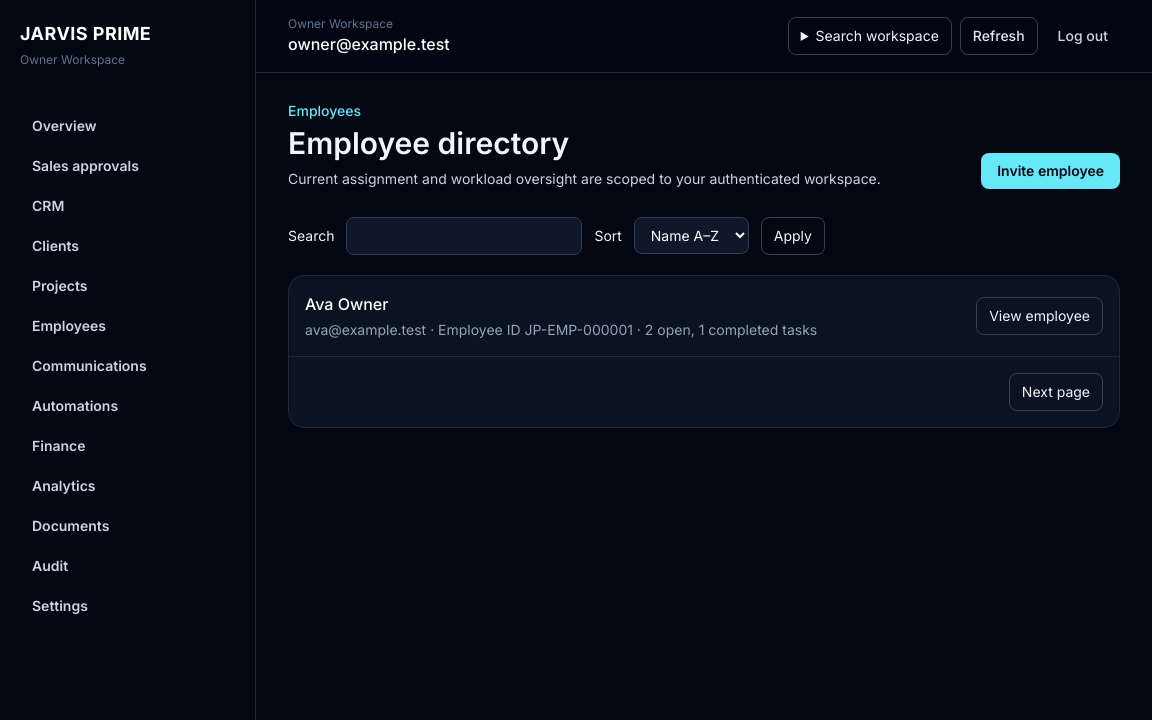
Test: invites an employee through the Owner-scoped workflow and refreshes the directory
Click the button "Invite employee" at x=1051, y=171, box x1=981 y1=153 x2=1120 y2=189
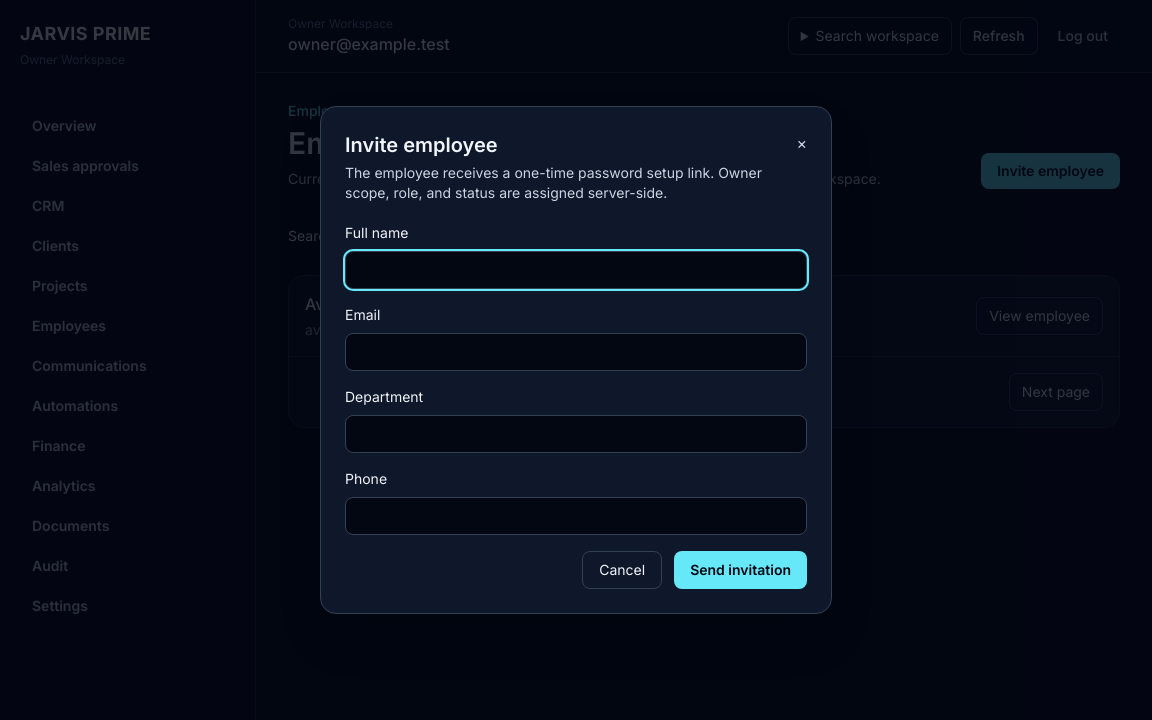
Type "New Employee" into the field labelled "Full name" at x=576, y=270, box x1=345 y1=251 x2=807 y2=289
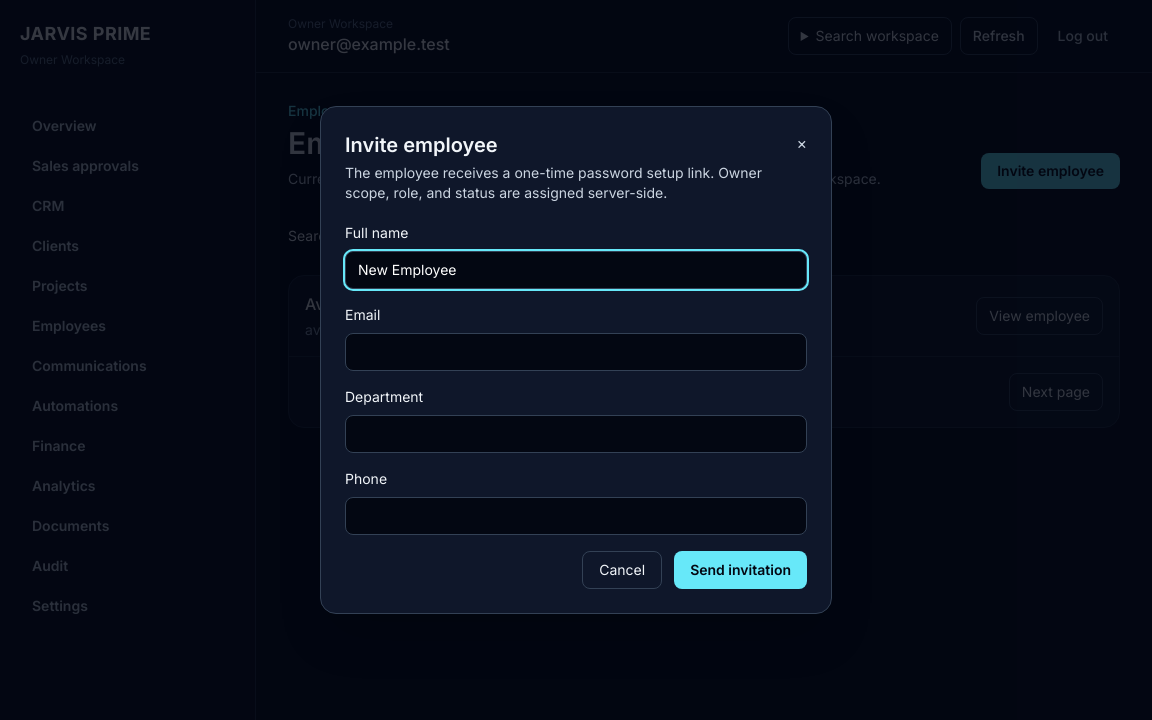
Type "new.employee@example.test" into the field labelled "Email" at x=576, y=352, box x1=345 y1=333 x2=807 y2=371
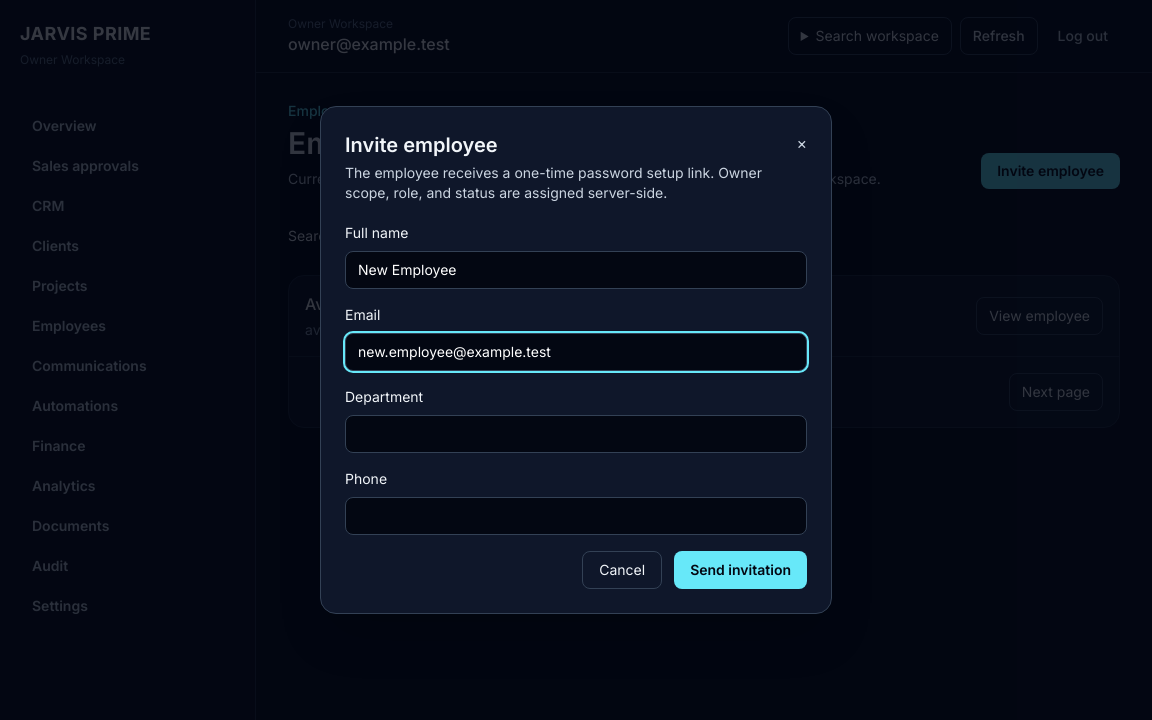
Type "Operations" into the field labelled "Department" at x=576, y=434, box x1=345 y1=415 x2=807 y2=453
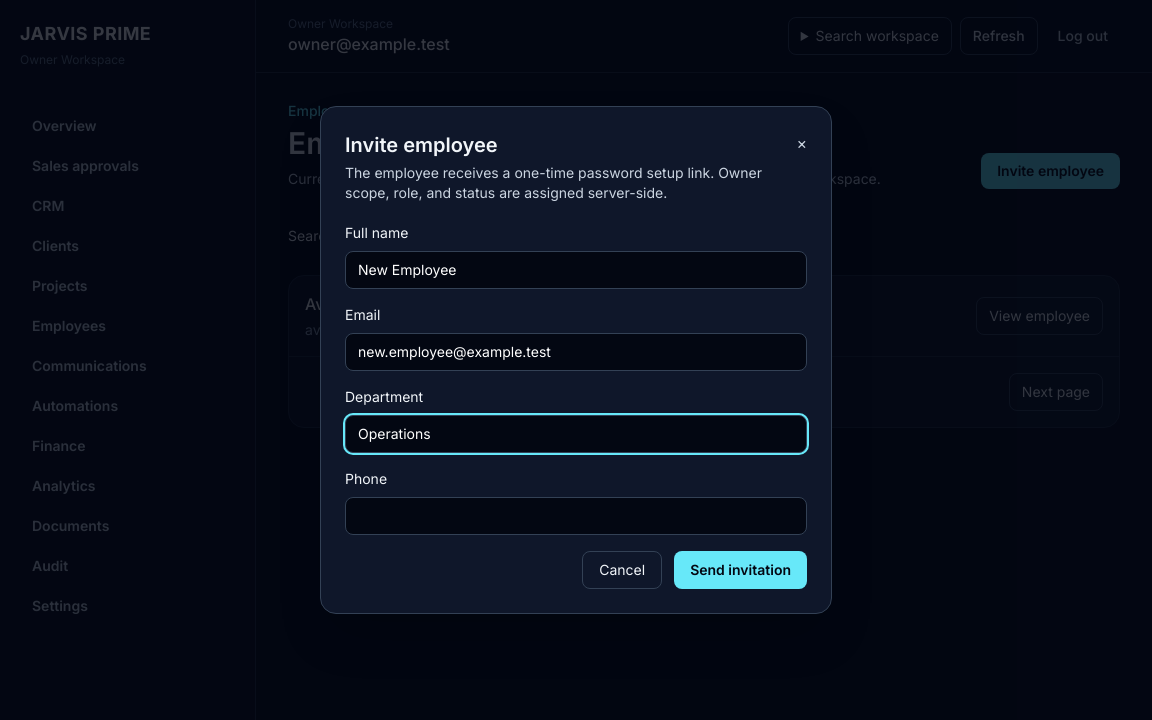
Type "+919876543210" into the field labelled "Phone" at x=576, y=516, box x1=345 y1=497 x2=807 y2=535
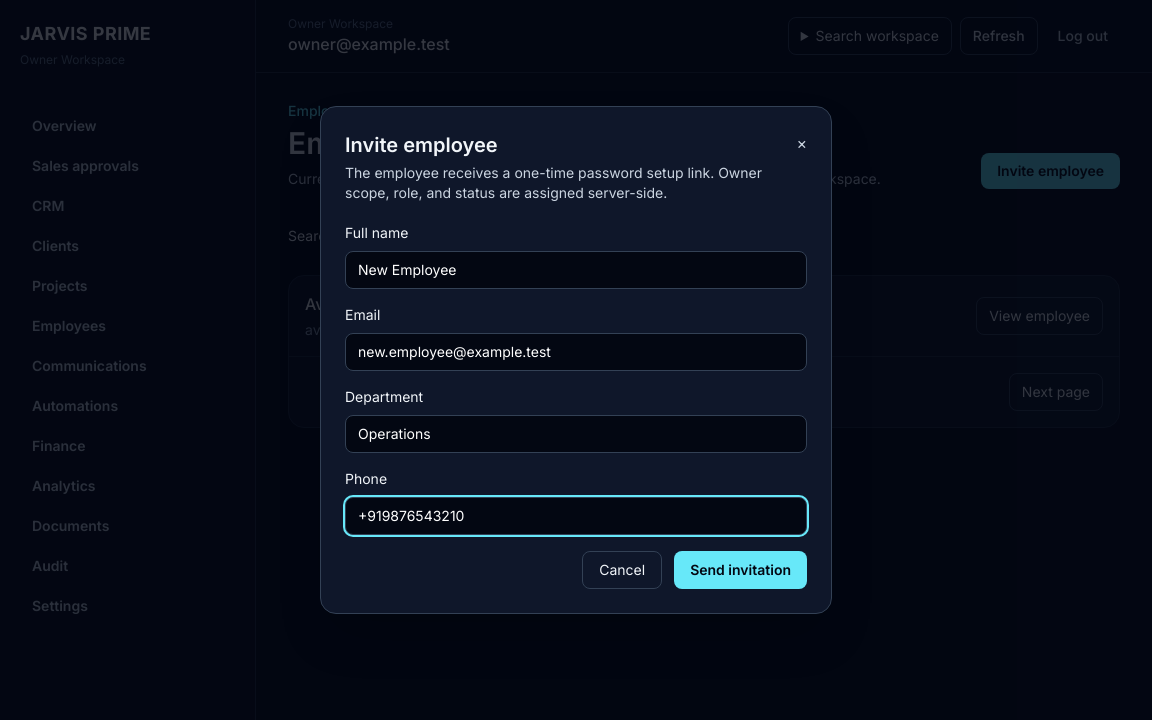
Click the button "Send invitation" at x=741, y=570, box x1=674 y1=551 x2=807 y2=589
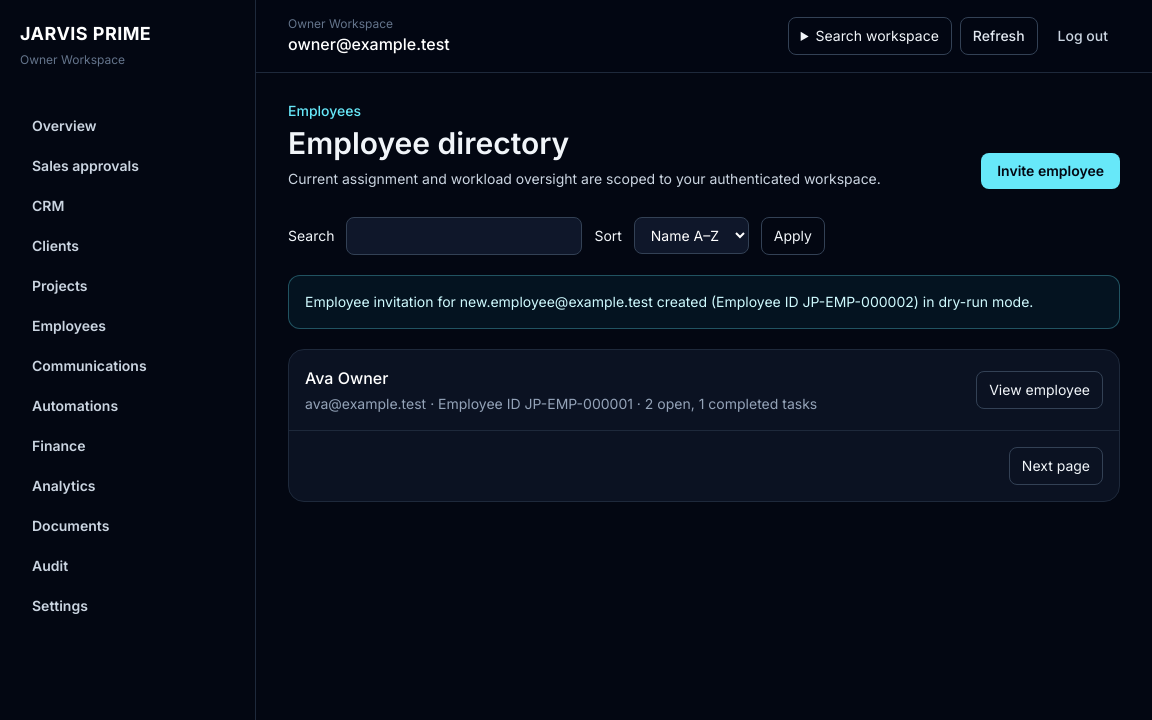
Expected: the message shows "new.employee@example.test", x1=305 y1=293 x2=1033 y2=310
Expected: the message shows "Employee ID JP-EMP-000002", x1=305 y1=293 x2=1033 y2=310
